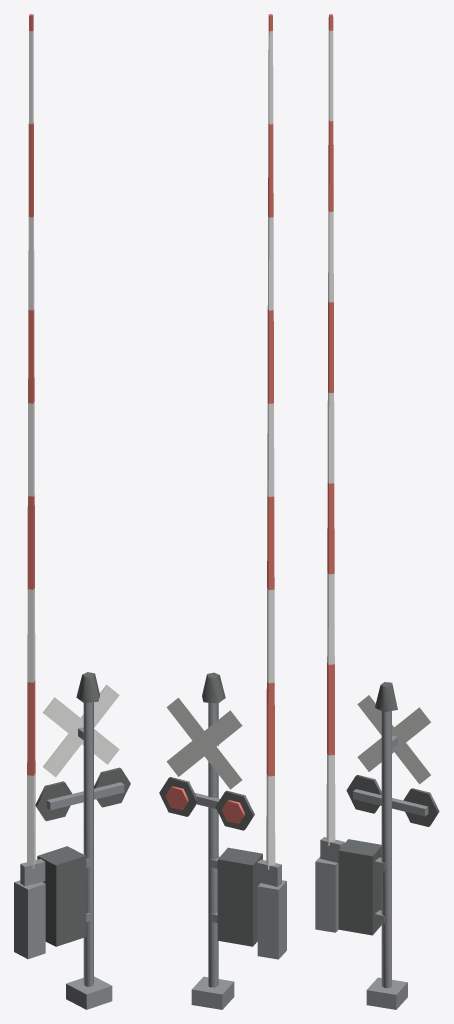
Rendered from crossing-gate-3-far.glb.
3 renders of one model, left to right at view 1: azimuth 30°, elevation 25°; view 2: azimuth 150°, elevation 25°; view 3: azimuth 330°, elevation 25°, orthographic. The views are drawn at different scales.
Visible parts, largest first — view 1: crossing-gate-3-far; view 2: crossing-gate-3-far; view 3: crossing-gate-3-far.
Boxes of the visible parts, left/top/right/bottom form: crossing-gate-3-far: left=14, top=14, right=130, bottom=1009; crossing-gate-3-far: left=159, top=14, right=286, bottom=1009; crossing-gate-3-far: left=315, top=14, right=439, bottom=1009.
Size of the model in its own units: 0.1229 by 1 by 0.0341.
